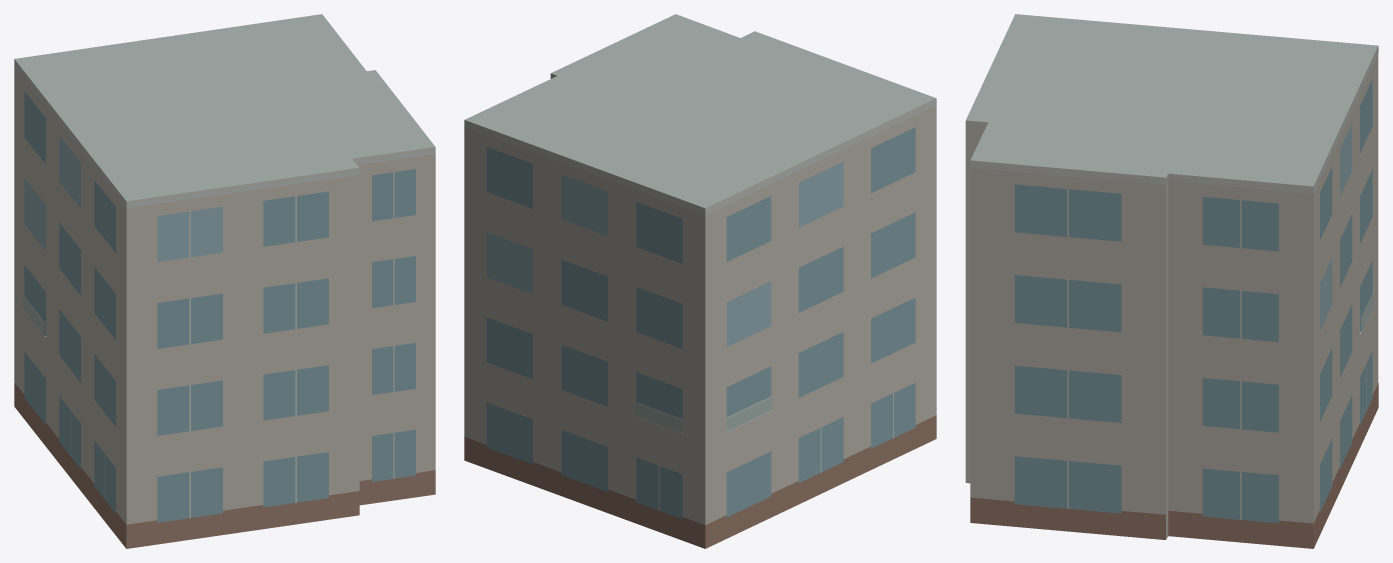
File: survey-upis-32537013.glb
3 views of the same model, side by side, from view 1: azimuth 30°, elevation 25°; view 2: azimuth 150°, elevation 25°; view 3: azimuth 270°, elevation 25° (orthographic). The views are drawn at different scales.
Visible parts, largest first — view 1: survey-upis-32537013.tmp; view 2: survey-upis-32537013.tmp; view 3: survey-upis-32537013.tmp.
Part boxes in pixels (x1,y1,x2,y2): survey-upis-32537013.tmp: [14, 14, 435, 548]; survey-upis-32537013.tmp: [464, 14, 936, 548]; survey-upis-32537013.tmp: [965, 14, 1378, 548].
Size of the model in its own units: 12.15 by 11.9 by 12.29.
